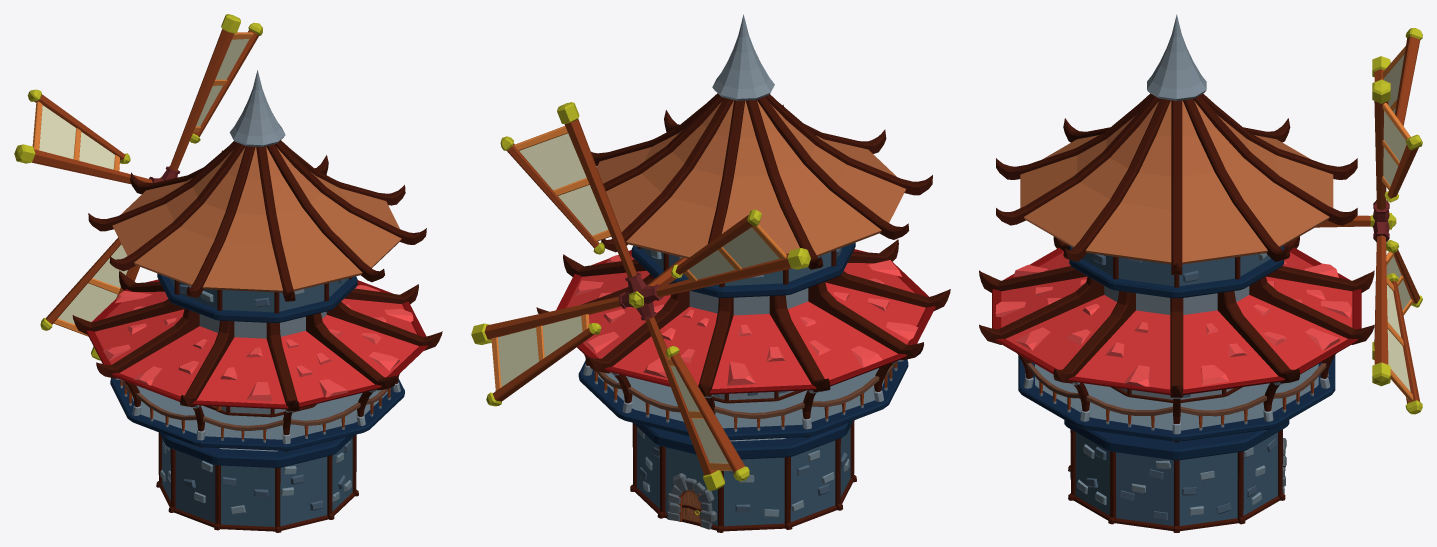
Rendered from Windmill.fbx.
3 views of the same model, side by side, from view 1: azimuth 30°, elevation 25°; view 2: azimuth 150°, elevation 25°; view 3: azimuth 270°, elevation 25° (orthographic). The views are drawn at different scales.
Visible parts, largest first — view 1: Lvl2 Roof, Lvl1 Roof, Core Building, Fans, Lvl2 Roof Supports, Lvl1 Roof Supports, Lvl1 Floor, Tiles, Lvl1 Rails, Basement Roof, Lvl2 Floor, Bricks Dark (+1 smaller); view 2: Lvl2 Roof, Fans, Lvl1 Roof, Core Building, Lvl2 Roof Supports, Lvl1 Roof Supports, Lvl1 Floor, Tiles, Lvl1 Rails, Basement Roof, Lvl2 Floor, Stone Door Arch (+5 smaller); view 3: Lvl2 Roof, Lvl1 Roof, Core Building, Lvl2 Roof Supports, Lvl1 Roof Supports, Fans, Lvl1 Floor, Tiles, Lvl1 Rails, Basement Roof, Lvl2 Floor, Bricks Dark (+2 smaller).
Boxes of the visible parts, left/top/right/bottom form: Lvl2 Roof: left=112, top=70, right=401, bottom=292; Lvl1 Roof: left=86, top=279, right=427, bottom=409; Core Building: left=156, top=277, right=358, bottom=532; Fans: left=14, top=14, right=262, bottom=360; Lvl2 Roof Supports: left=88, top=140, right=426, bottom=301; Lvl1 Roof Supports: left=72, top=270, right=442, bottom=411; Lvl1 Floor: left=110, top=378, right=404, bottom=450; Tiles: left=103, top=285, right=413, bottom=401; Lvl1 Rails: left=114, top=374, right=400, bottom=443; Basement Roof: left=159, top=432, right=355, bottom=467; Lvl2 Floor: left=157, top=273, right=357, bottom=323; Bricks Dark: left=162, top=279, right=351, bottom=510; Lvl2 Roof: left=597, top=14, right=905, bottom=258; Fans: left=471, top=102, right=810, bottom=490; Lvl1 Roof: left=556, top=249, right=935, bottom=394; Core Building: left=630, top=247, right=856, bottom=532; Lvl2 Roof Supports: left=591, top=93, right=932, bottom=269; Lvl1 Roof Supports: left=536, top=239, right=950, bottom=396; Lvl1 Floor: left=578, top=359, right=908, bottom=440; Tiles: left=574, top=255, right=918, bottom=385; Lvl1 Rails: left=583, top=355, right=903, bottom=431; Basement Roof: left=634, top=420, right=853, bottom=459; Lvl2 Floor: left=631, top=242, right=855, bottom=297; Stone Door Arch: left=667, top=473, right=716, bottom=529; Lvl2 Roof: left=1020, top=14, right=1333, bottom=264; Lvl1 Roof: left=992, top=247, right=1361, bottom=395; Core Building: left=1068, top=253, right=1285, bottom=532; Lvl2 Roof Supports: left=996, top=93, right=1357, bottom=274; Lvl1 Roof Supports: left=979, top=236, right=1374, bottom=397; Fans: left=1372, top=28, right=1422, bottom=414; Lvl1 Floor: left=1018, top=355, right=1335, bottom=441; Tiles: left=995, top=260, right=1351, bottom=386; Lvl1 Rails: left=1017, top=353, right=1336, bottom=434; Basement Roof: left=1064, top=420, right=1289, bottom=460; Lvl2 Floor: left=1069, top=245, right=1284, bottom=298; Bricks Dark: left=1070, top=254, right=1276, bottom=520.
Bounding box in the file's own units: 29.58 × 36.97 × 31.58.
